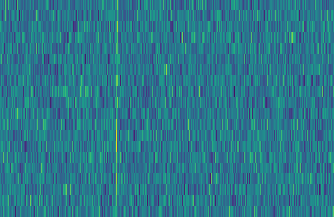signal: (110, 0, 120, 217)
